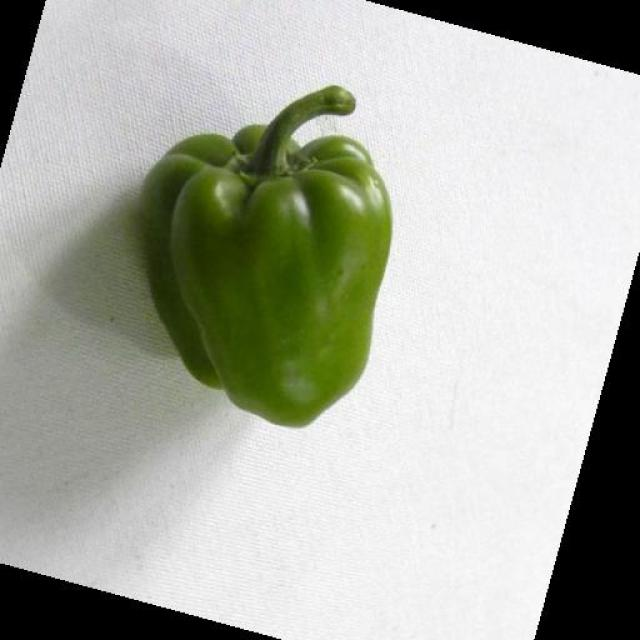Fresh_Capsicum: (130, 54, 378, 408)
